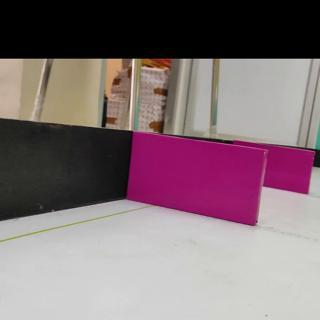xparking: (136, 148, 262, 218), (269, 151, 313, 193)
